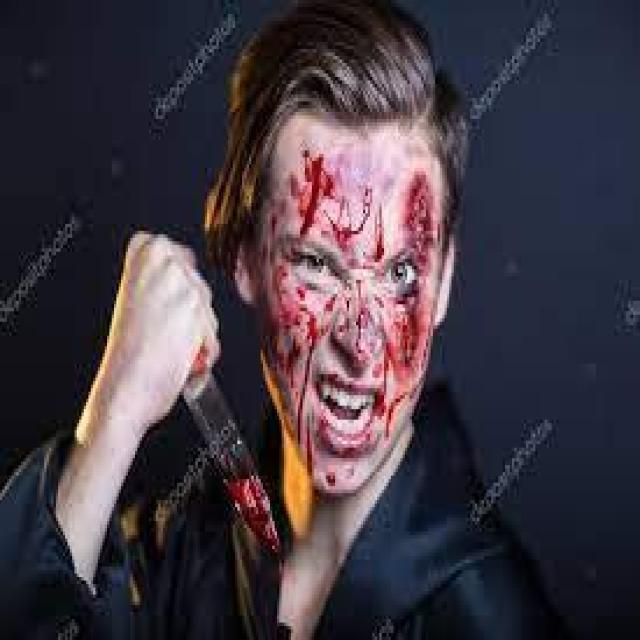flood: (256, 132, 439, 484), (220, 462, 306, 562)
